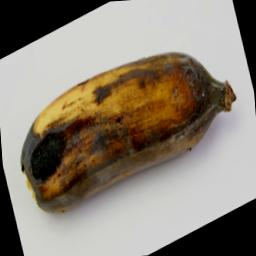Banana Rotten: (0, 10, 256, 237)
